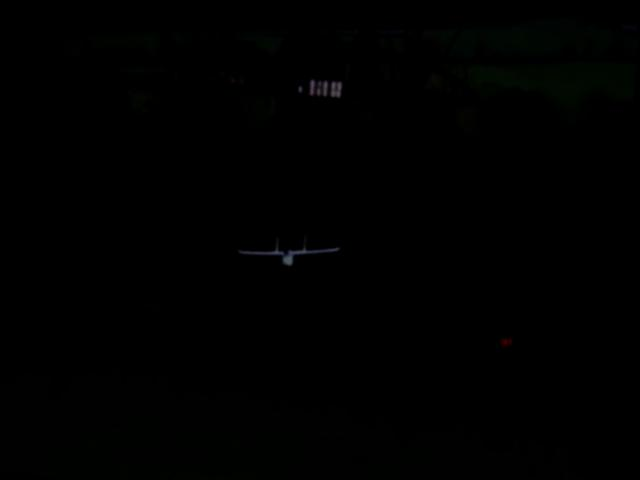uav: (236, 228, 349, 274)
